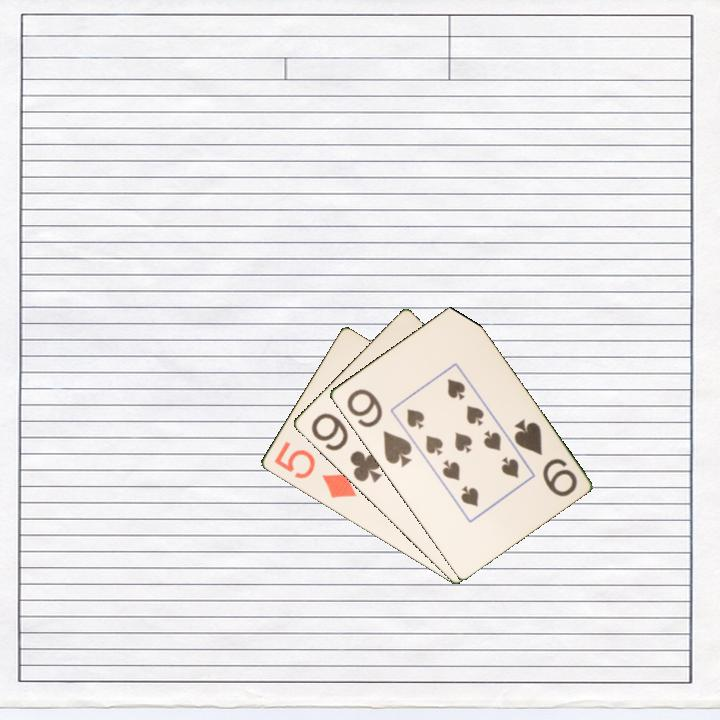5d: (270, 438, 359, 502)
9c: (307, 409, 385, 486)
9s: (343, 385, 415, 471), (510, 415, 580, 500)
